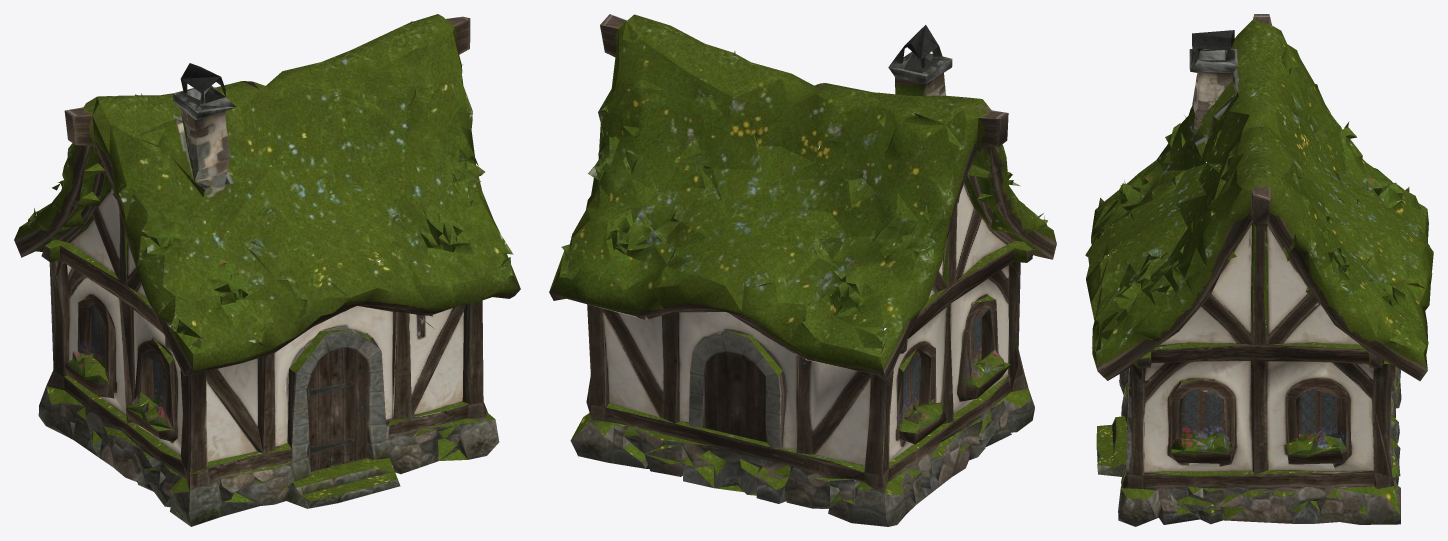
File: CasaEldoria02-lod1.glb
3 renders of one model, left to right at view 1: azimuth 30°, elevation 25°; view 2: azimuth 150°, elevation 25°; view 3: azimuth 270°, elevation 25°, orthographic. The views are drawn at different scales.
Visible parts, largest first — view 1: CasaEldoria02_LOD1; view 2: CasaEldoria02_LOD1; view 3: CasaEldoria02_LOD1.
Part boxes in pixels (x1,y1,x2,y2): CasaEldoria02_LOD1: (14,14,520,526); CasaEldoria02_LOD1: (549,14,1056,526); CasaEldoria02_LOD1: (1085,14,1433,526).
Bounding box in the file's own units: 1.9 × 1.85 × 1.53.
1 material, 1 textured.
